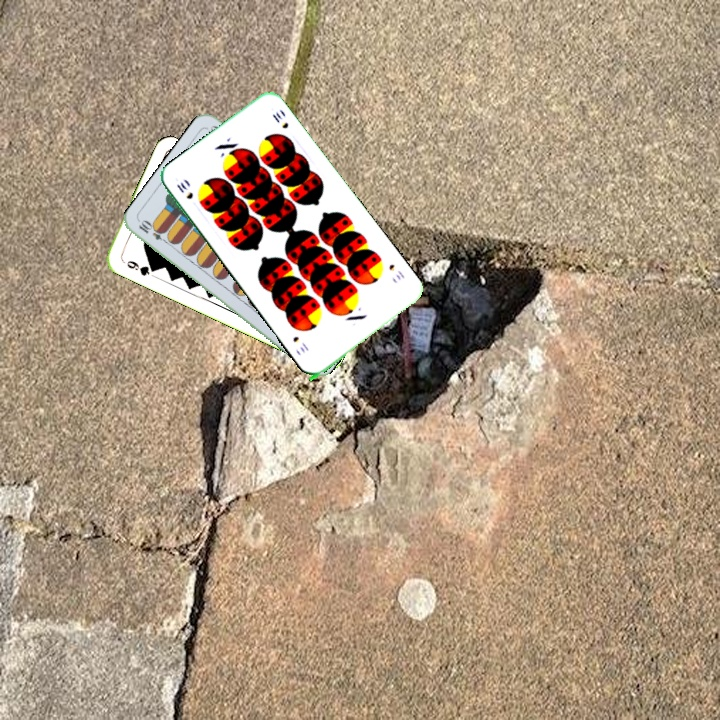E10: (134, 217, 172, 247)
G9: (118, 256, 159, 278)
S10: (172, 175, 196, 202), (385, 260, 407, 283)
